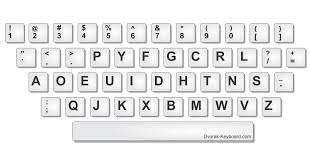keyboard: (0, 23, 310, 150)
